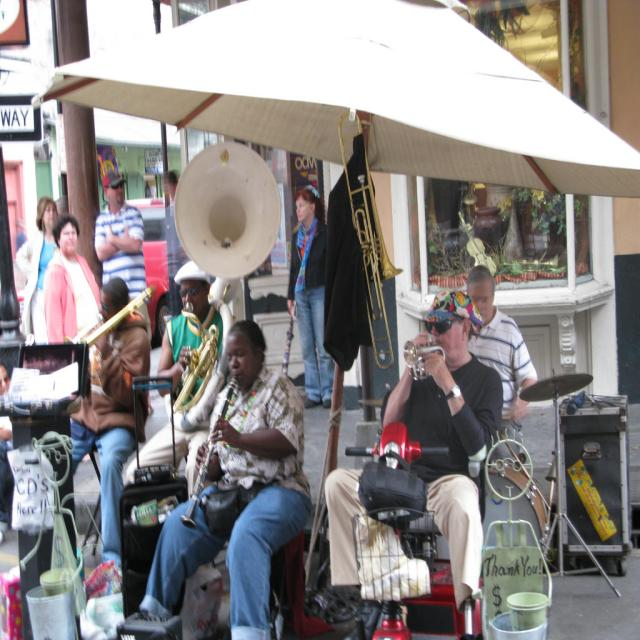clarinet: (181, 373, 239, 531)
